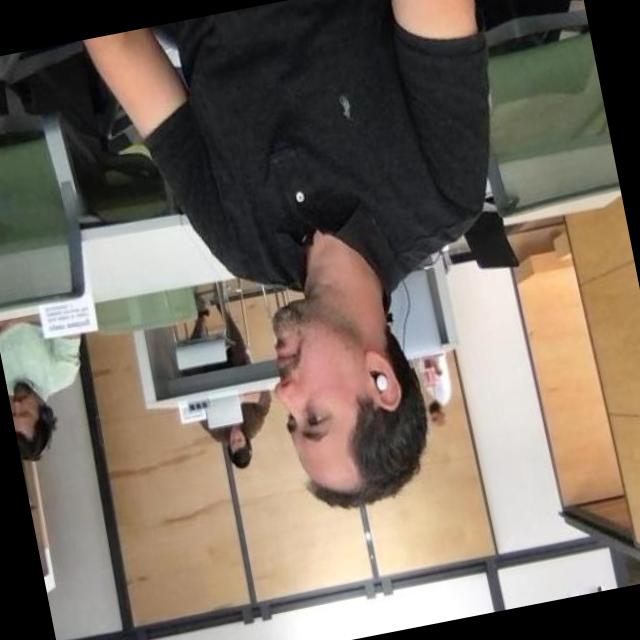bareface: (266, 272, 430, 506)
